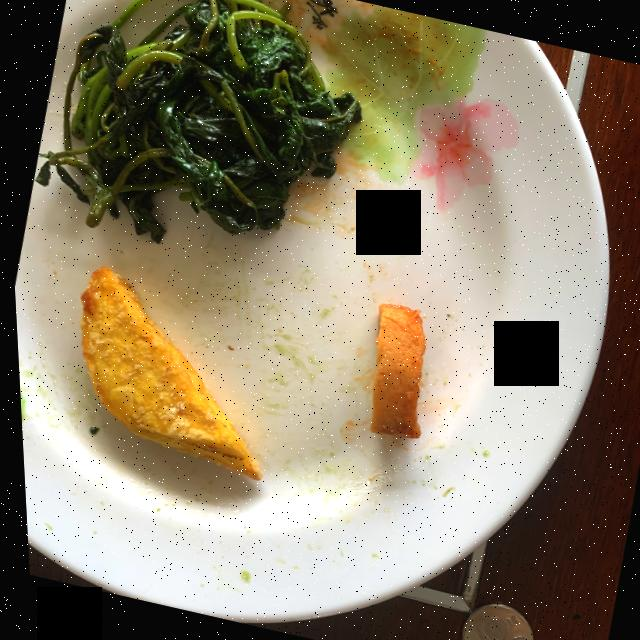coin: (455, 602, 526, 640)
creamy tofu: (365, 304, 422, 438)
sweet potato leaves: (36, 0, 360, 242)
